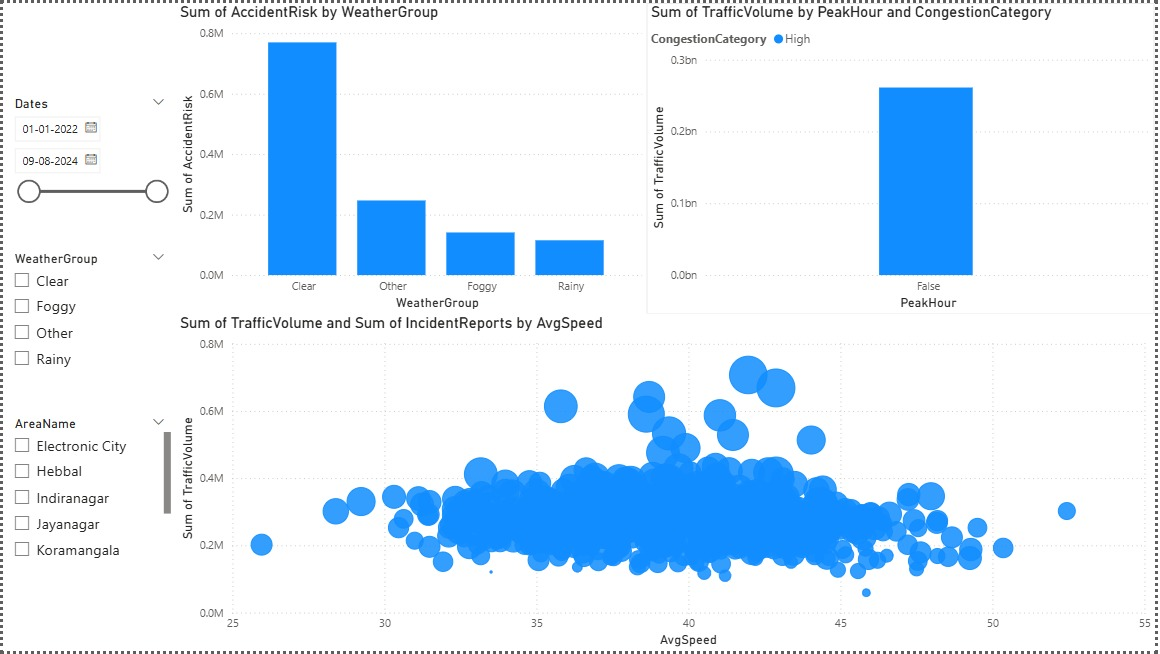

The dashboard page shown, as its layout file describes it:
{"tool":"powerbi","page":{"name":"Page 3","canvas":[1280,720],"ordinal":2},"visuals":[{"type":"clusteredColumnChart","fields":{"Category":["TrafficData.WeatherGroup"],"Y":["Sum(TrafficData.AccidentRisk)"]},"box":[191.7,0,523.3,345],"z":0},{"type":"columnChart","fields":{"Category":["TrafficData.PeakHour"],"Series":["TrafficData.CongestionCategory"],"Y":["Sum(TrafficData.TrafficVolume)"]},"box":[715,0,565,345],"z":1},{"type":"scatterChart","fields":{"X":["Traffic_DailySummary.AvgSpeed"],"Y":["Sum(TrafficData.TrafficVolume)"],"Size":["Sum(TrafficData.IncidentReports)"]},"box":[191.7,345,1088.3,375],"z":2},{"type":"slicer","fields":{"Values":["TrafficData.WeatherGroup"]},"box":[0,270,191.7,150],"z":3},{"type":"slicer","fields":{"Values":["TrafficData.AreaName"]},"box":[0,453.3,191.7,173.3],"z":4},{"type":"slicer","fields":{"Values":["TrafficData.Dates"]},"box":[0,98.3,191.7,150],"z":5}]}

Visuals, with their boxes in screenshot pixels (x1, y1, x2, y2), scaled from the page's 1280x720 canvas onto the 1160x654 screenshot:
clusteredColumnChart - TrafficData.WeatherGroup x Sum(TrafficData.AccidentRisk): rect(174, 0, 648, 313)
columnChart - TrafficData.PeakHour x TrafficData.CongestionCategory: rect(648, 0, 1159, 313)
scatterChart - Traffic_DailySummary.AvgSpeed x Sum(TrafficData.TrafficVolume): rect(174, 313, 1159, 653)
slicer - TrafficData.WeatherGroup: rect(0, 245, 174, 382)
slicer - TrafficData.AreaName: rect(0, 412, 174, 569)
slicer - TrafficData.Dates: rect(0, 89, 174, 226)
